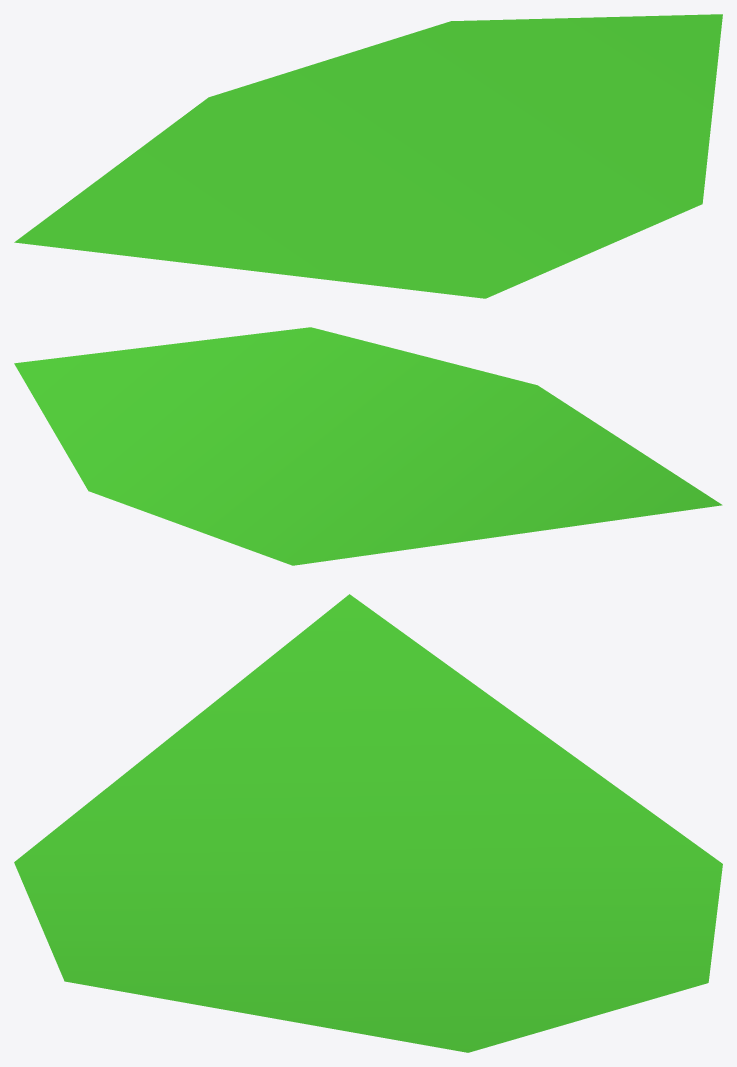
Rendered from leaf.FBX.
3 renders of one model, top to bottom at view 1: azimuth 30°, elevation 25°; view 2: azimuth 150°, elevation 25°; view 3: azimuth 270°, elevation 25°, orthographic. The views are drawn at different scales.
Parts seen in each view (by area): view 1: leaf; view 2: leaf; view 3: leaf.
Boxes of the visible parts, x1,y1,x2,y2 form: leaf: [14, 14, 722, 298]; leaf: [14, 327, 722, 565]; leaf: [14, 594, 722, 1052].
Bounding box in the file's own units: 43.78 × 3.04 × 27.81.
